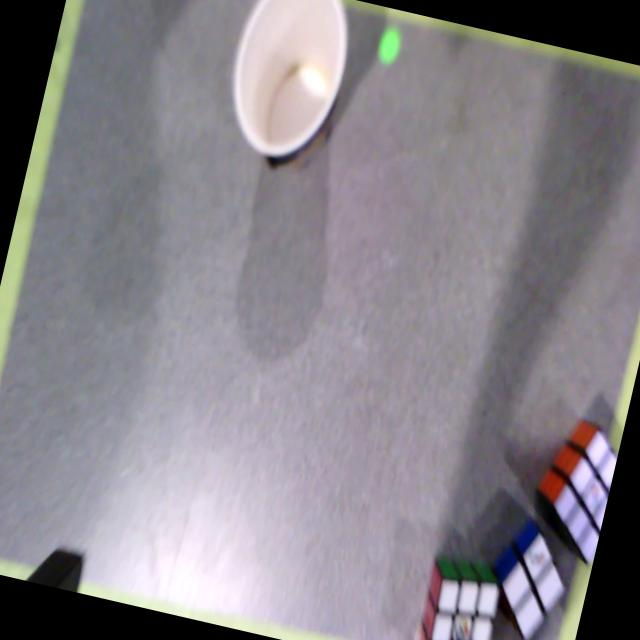cube2-white: (502, 531, 564, 640)
cube3-white: (553, 427, 616, 566), (430, 577, 499, 640)
